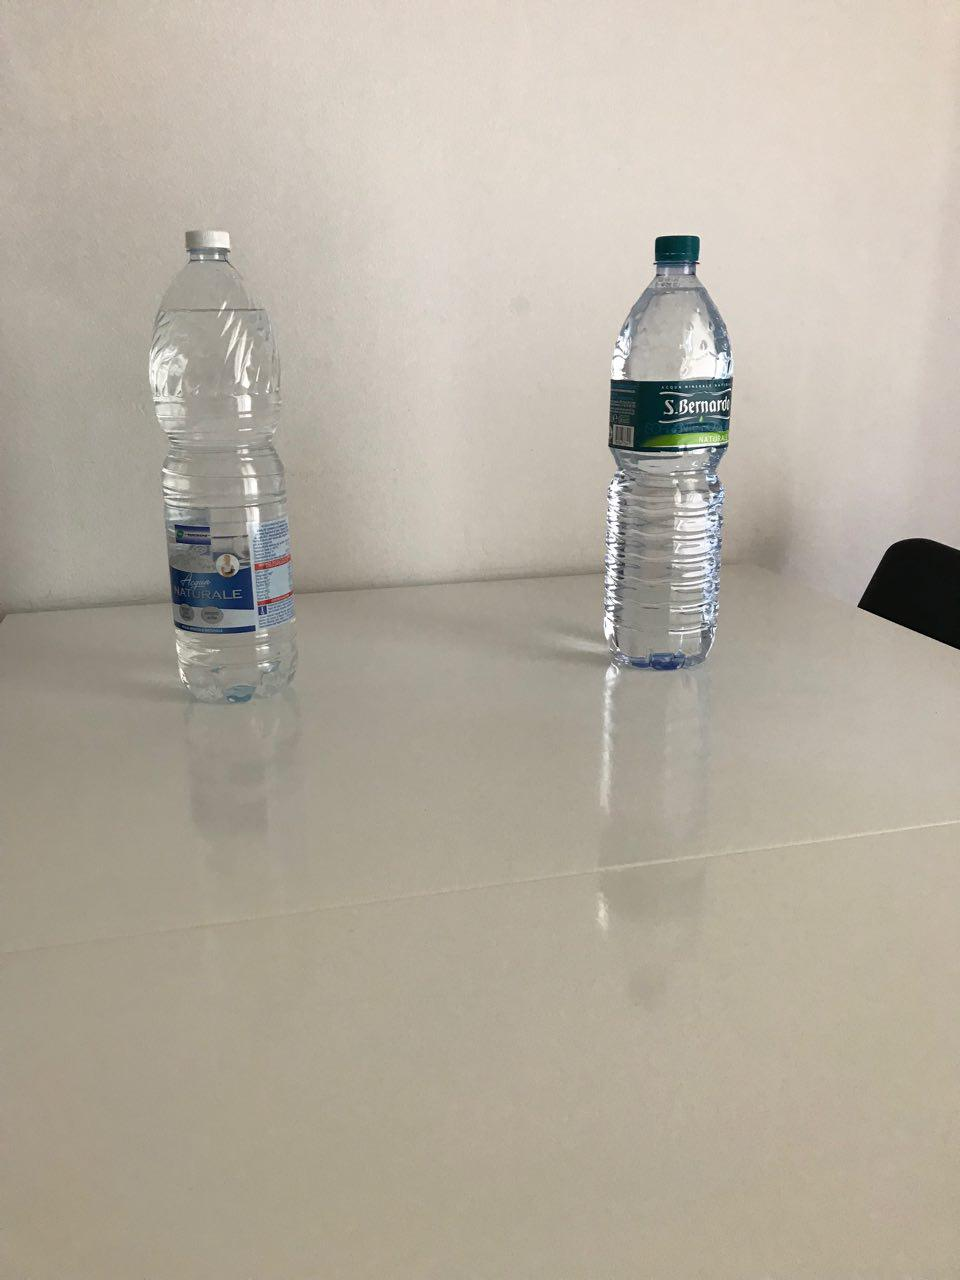san_bernardo: (603, 234, 734, 670)
